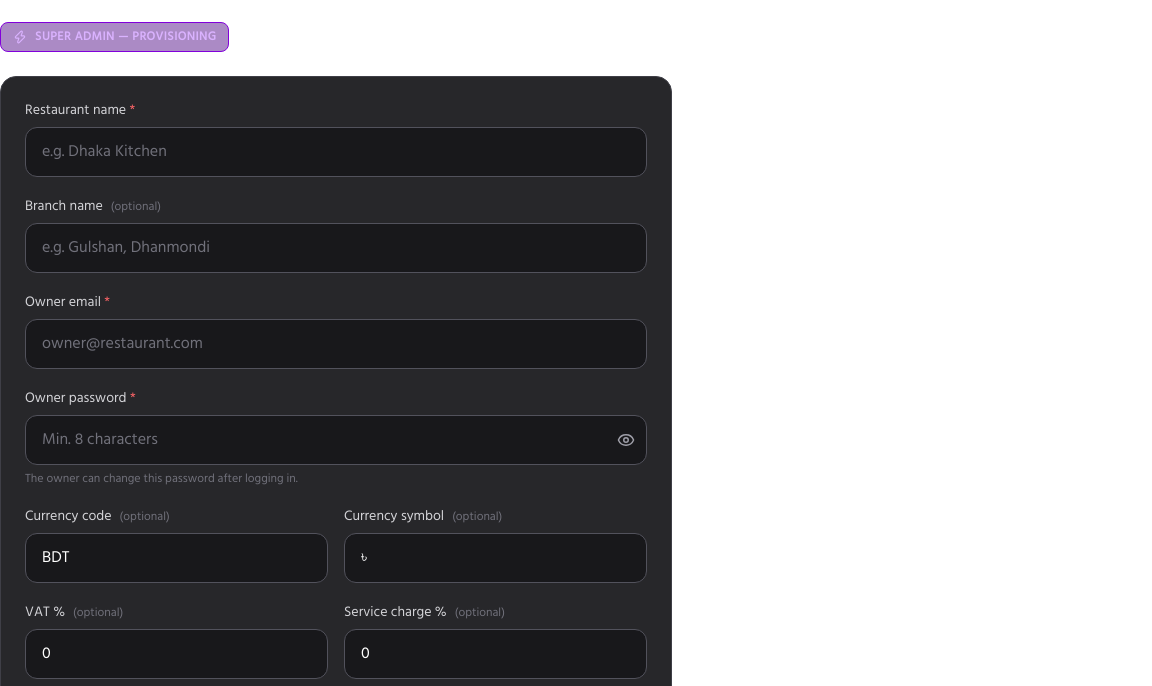
Test: ProvisionRestaurantForm — validation › shows error when restaurant name is too short
Type "X" into the field labelled "Restaurant name *" at x=336, y=152, box [25,127,647,177]
(page scrolled)
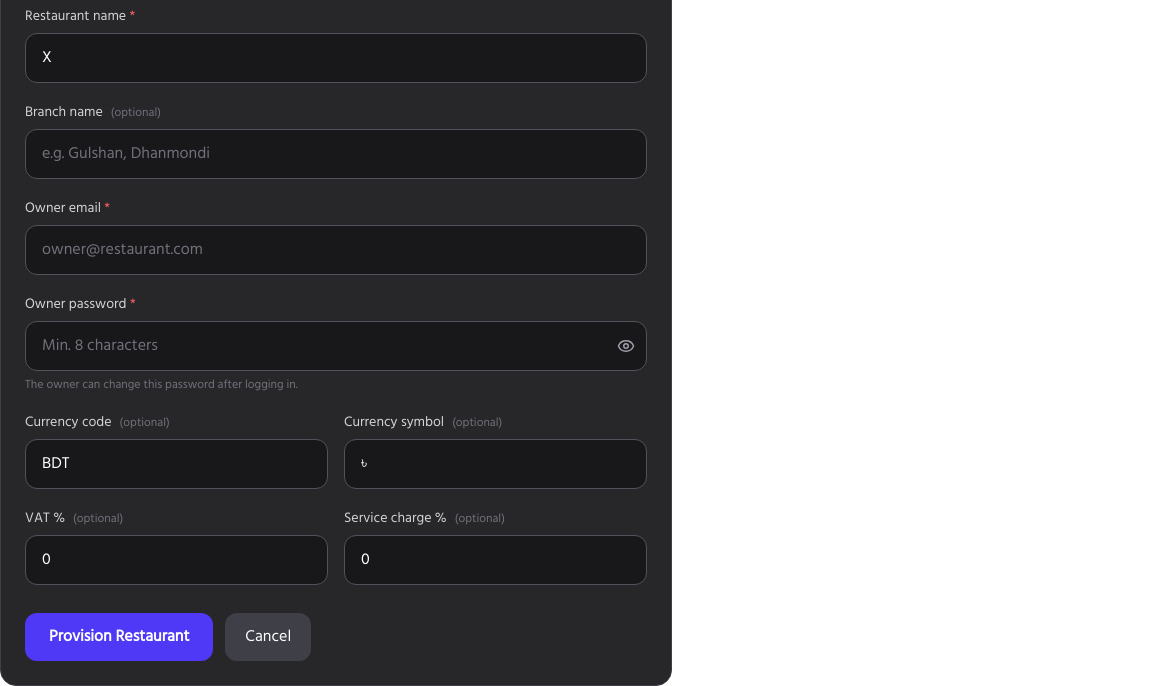
Click the button "Provision Restaurant" at x=119, y=637, box [25,613,213,661]
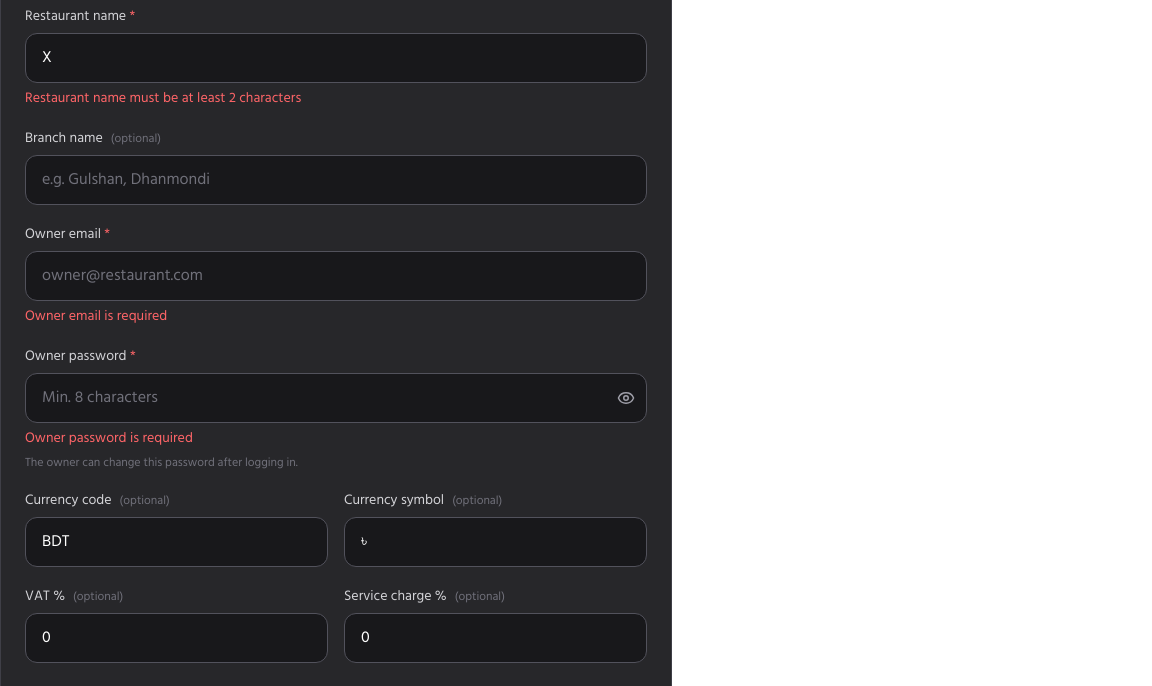
Expected: the text "Restaurant name must be at least 2 characters" is shown, [25,87,301,110]
